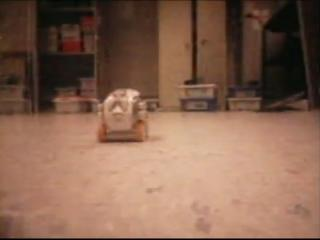cozmo: (96, 87, 150, 143)
